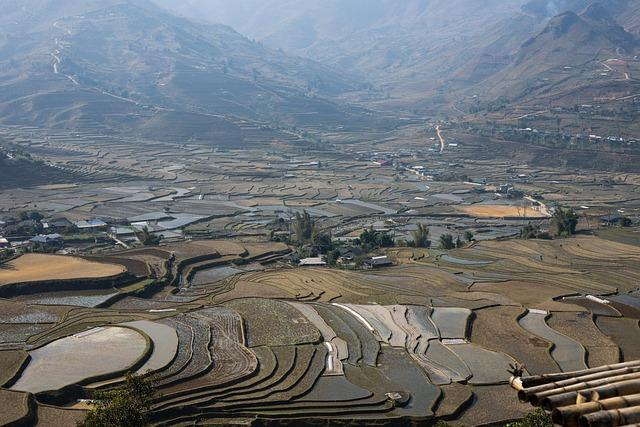Non_Gorille: (53, 53, 583, 398)
